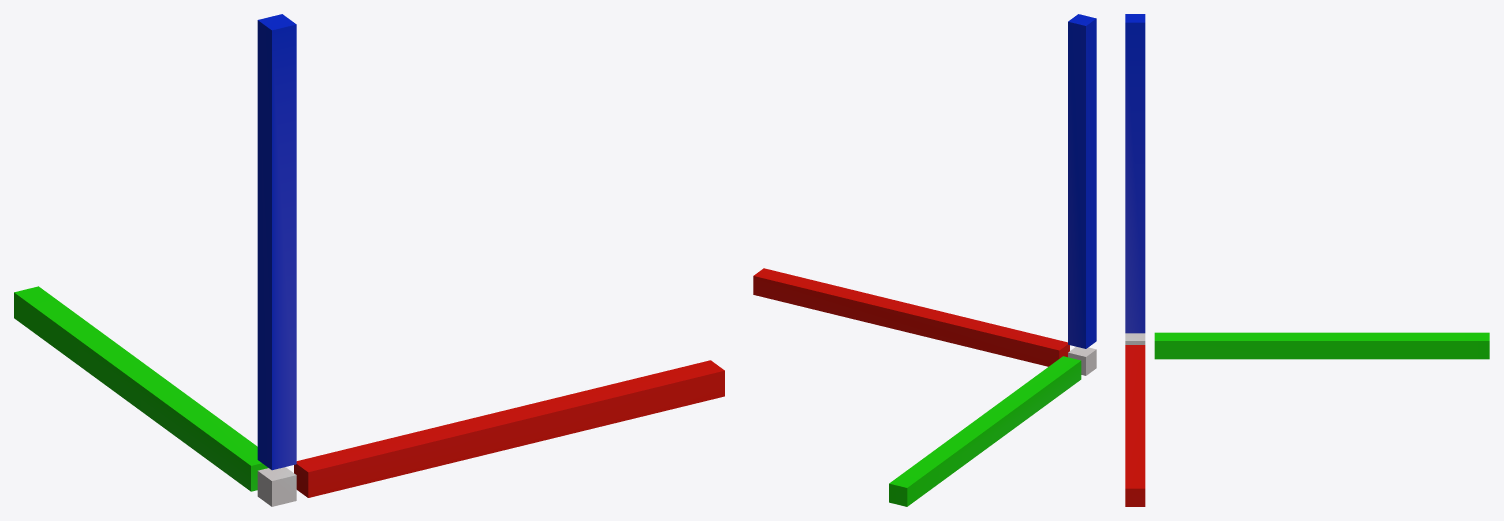
The model's file is axes.fbx.
3 renders of one model, left to right at view 1: azimuth 30°, elevation 25°; view 2: azimuth 150°, elevation 25°; view 3: azimuth 270°, elevation 25°, orthographic. The views are drawn at different scales.
Visible parts, largest first — view 1: Cube; view 2: Cube; view 3: Cube.
Boxes of the visible parts, left/top/right/bottom form: Cube: left=14, top=14, right=724, bottom=506; Cube: left=753, top=14, right=1096, bottom=506; Cube: left=1125, top=14, right=1489, bottom=506.
Bounding box in the file's own units: 205 × 202 × 206.
